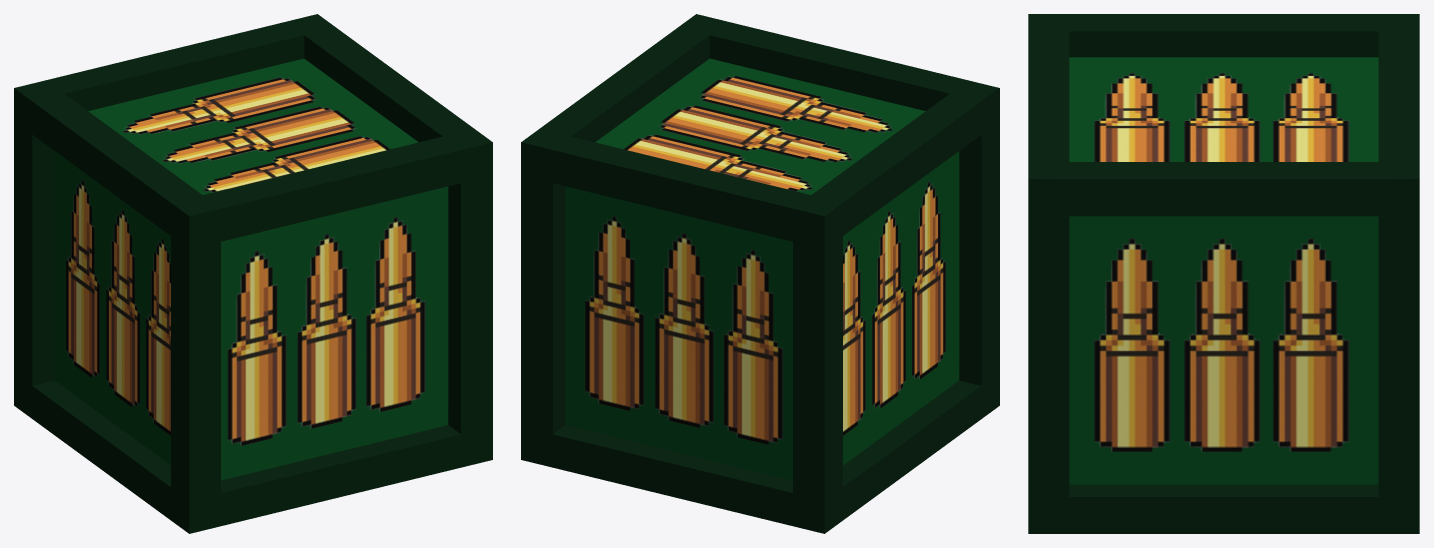
The model's file is FBX_Caisse_Munition.fbx.
The picture shows the model from 3 angles, left to right: view 1: azimuth 30°, elevation 25°; view 2: azimuth 150°, elevation 25°; view 3: azimuth 270°, elevation 25°; orthographic projection. The views are drawn at different scales.
Visible parts, largest first — view 1: Cube.002; view 2: Cube.002; view 3: Cube.002.
Part boxes in pixels (x1=…): Cube.002: x1=14, y1=14, x2=492, y2=533; Cube.002: x1=521, y1=14, x2=999, y2=533; Cube.002: x1=1028, y1=14, x2=1419, y2=533.
Bounding box in the file's own units: 69.34 × 69.34 × 69.34.
